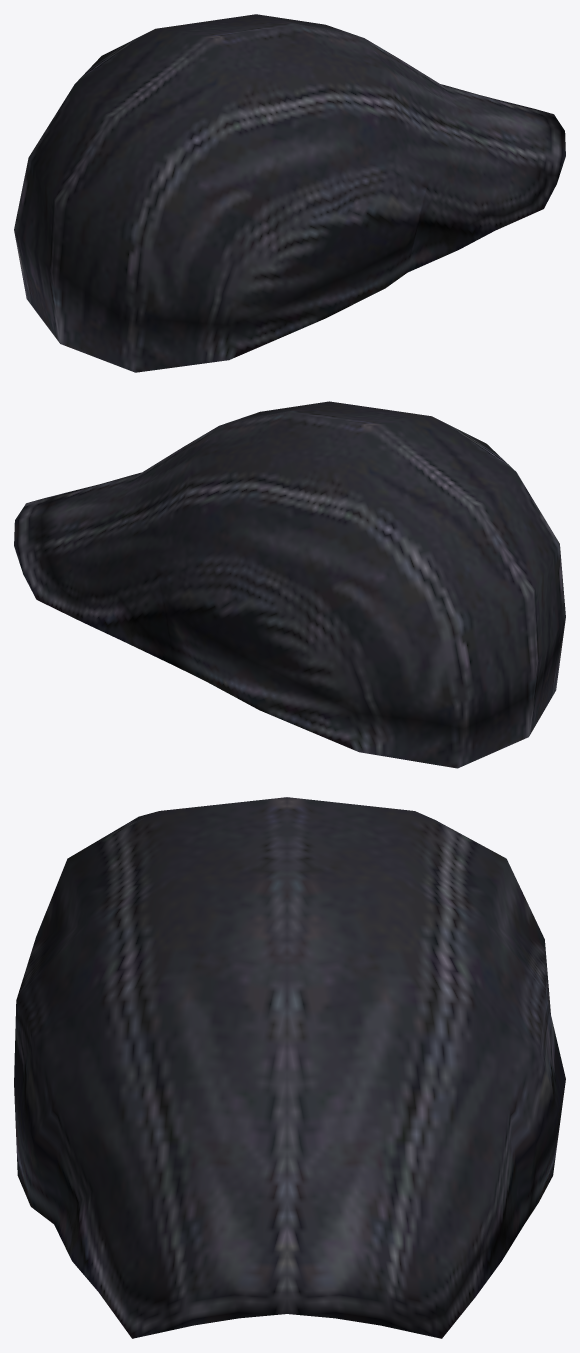
Rendered from hat_0400030.FBX.
The picture shows the model from 3 angles, top to bottom: view 1: azimuth 30°, elevation 25°; view 2: azimuth 150°, elevation 25°; view 3: azimuth 270°, elevation 25°; orthographic projection. The views are drawn at different scales.
Visible parts, largest first — view 1: hat_0400030; view 2: hat_0400030; view 3: hat_0400030.
Part boxes in pixels (box(x1,y1,x2,y2)): hat_0400030: box(14, 14, 565, 372); hat_0400030: box(14, 401, 565, 768); hat_0400030: box(14, 797, 565, 1338).
Bounding box in the file's own units: 37.83 × 19.4 × 22.83.
